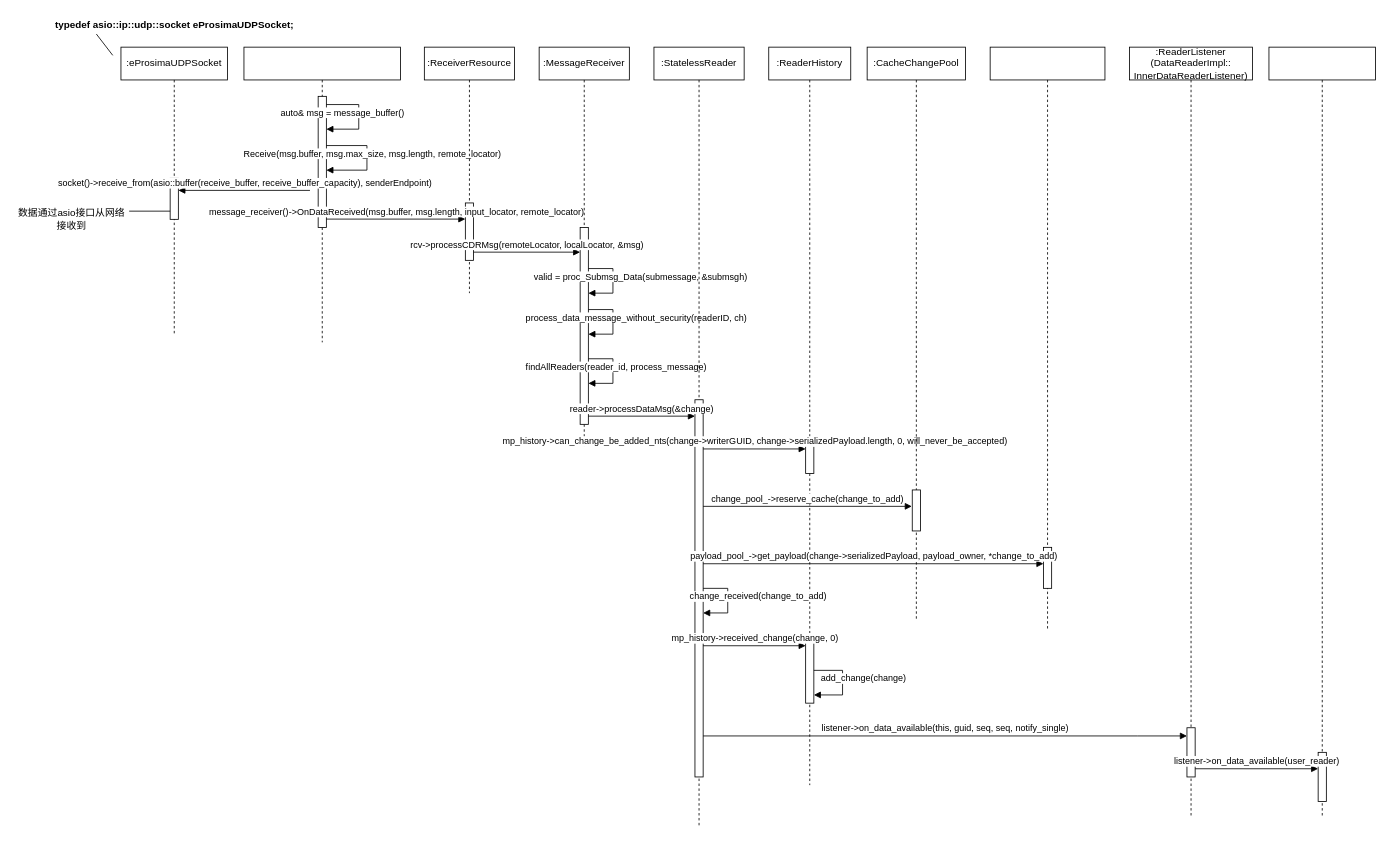
Some shapes in this 1390 by 841 pixel diagram are drawn without their labels. The box of each missing label's shape, as (x1, y1, x2, y2) in pixels:
:ChannelResource (UDPChannelResource): (243, 46, 401, 342)
:DataReaderListener (SubListener): (1268, 46, 1376, 818)
:TopicPayloadPoolProxy: (989, 46, 1105, 629)
